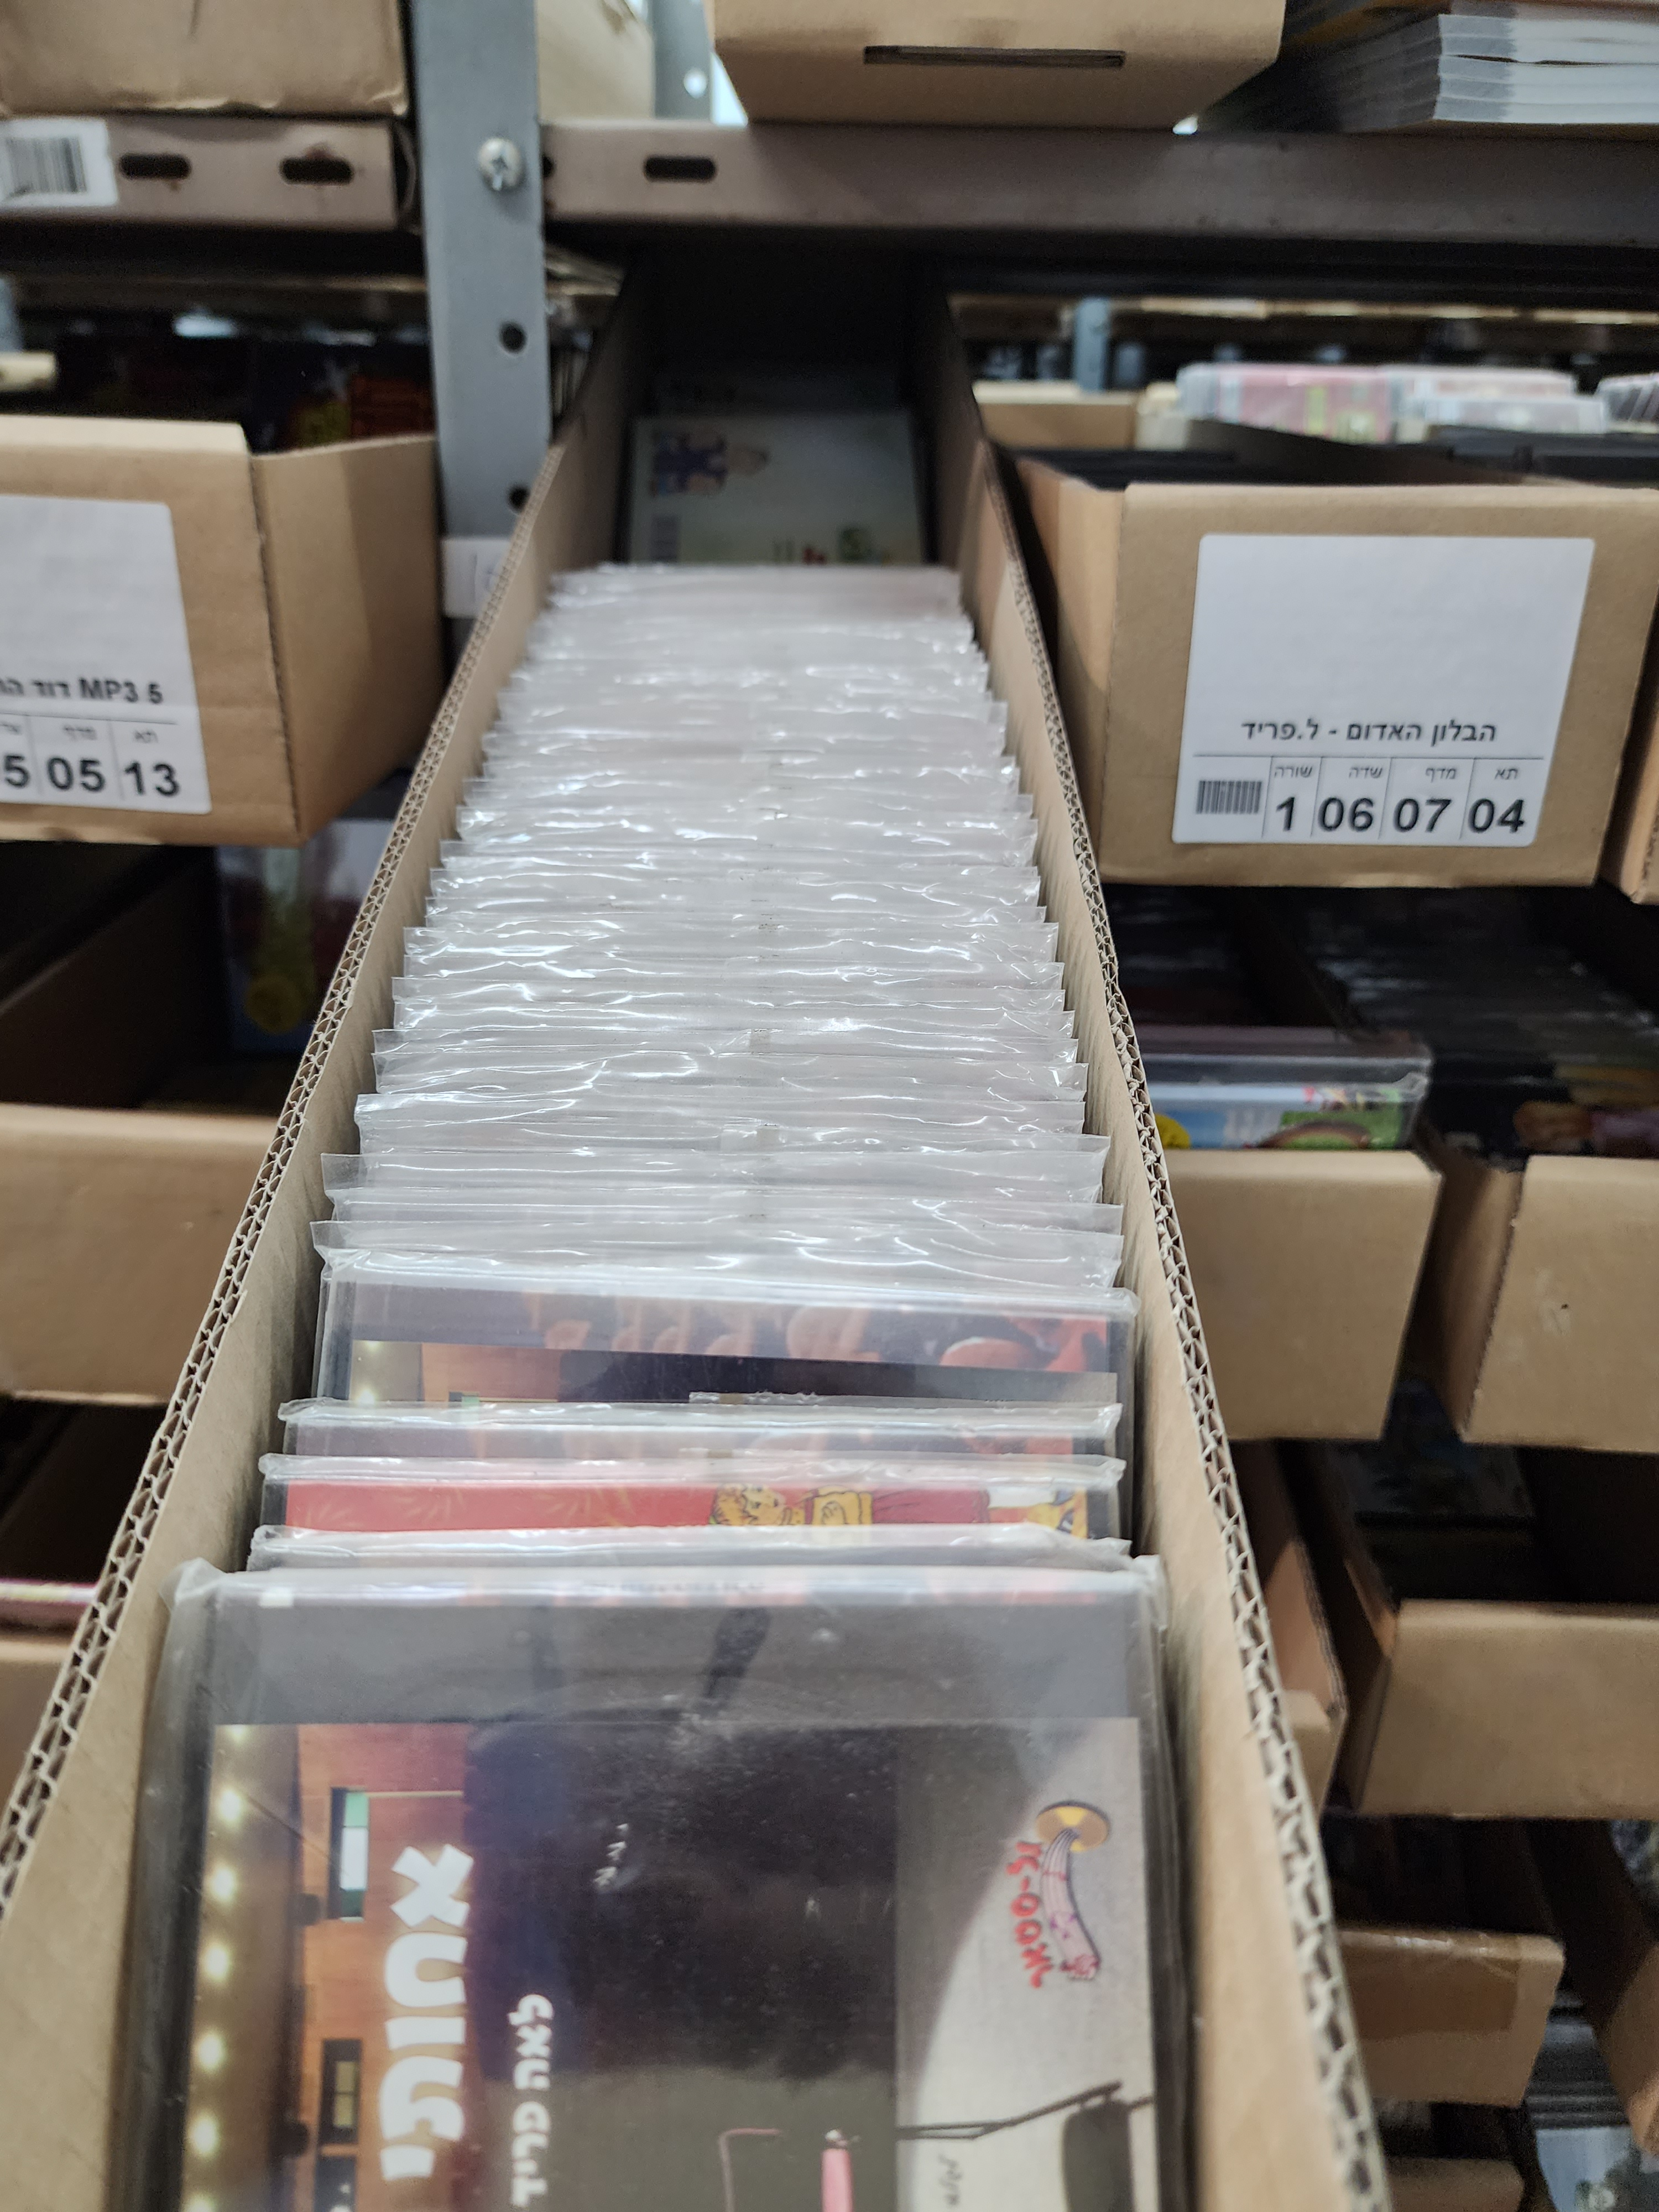box: (106, 374, 1391, 2182)
